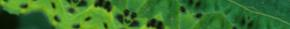Tomato Early blight leaf: (117, 0, 196, 29)
